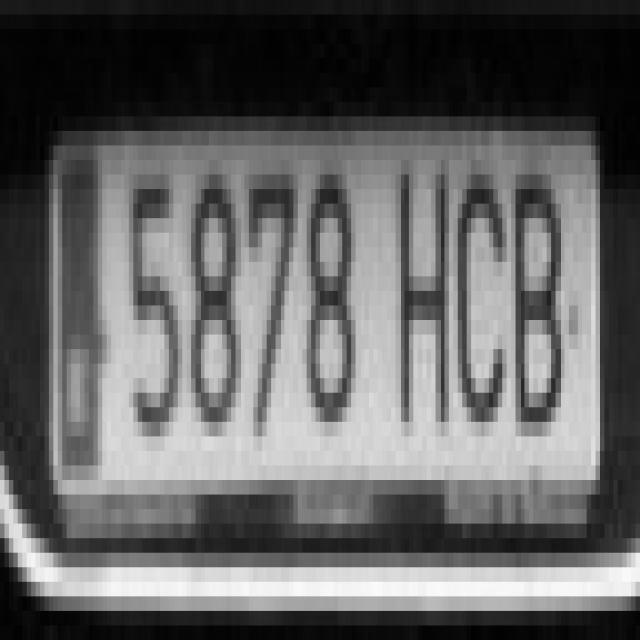LicensePlate: (23, 73, 606, 558)
